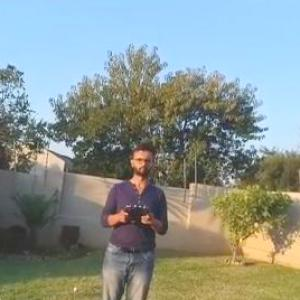follow: (90, 142, 174, 299)
